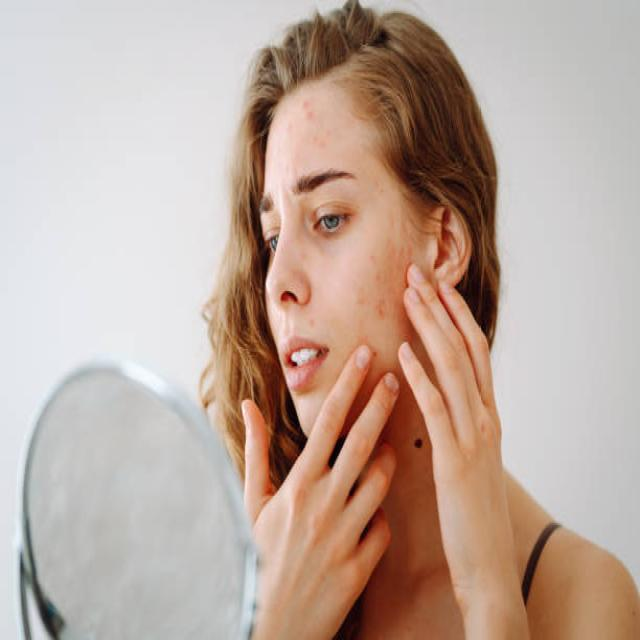pigmentation: (367, 252, 401, 322)
